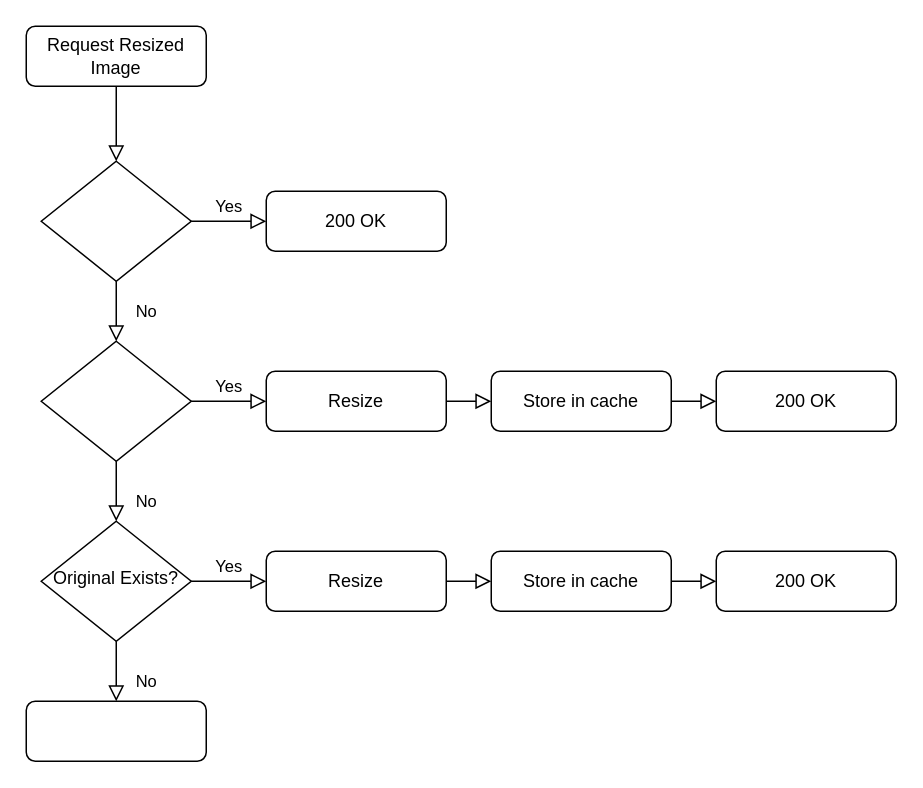
Image size: 923x788. Some labels were removed from this diagram. Each missing label, with the box of its shape:
404 Not Found: (25, 700, 206, 761)
Cached?: (40, 160, 191, 281)
Oringinal Cached?: (40, 340, 191, 461)
